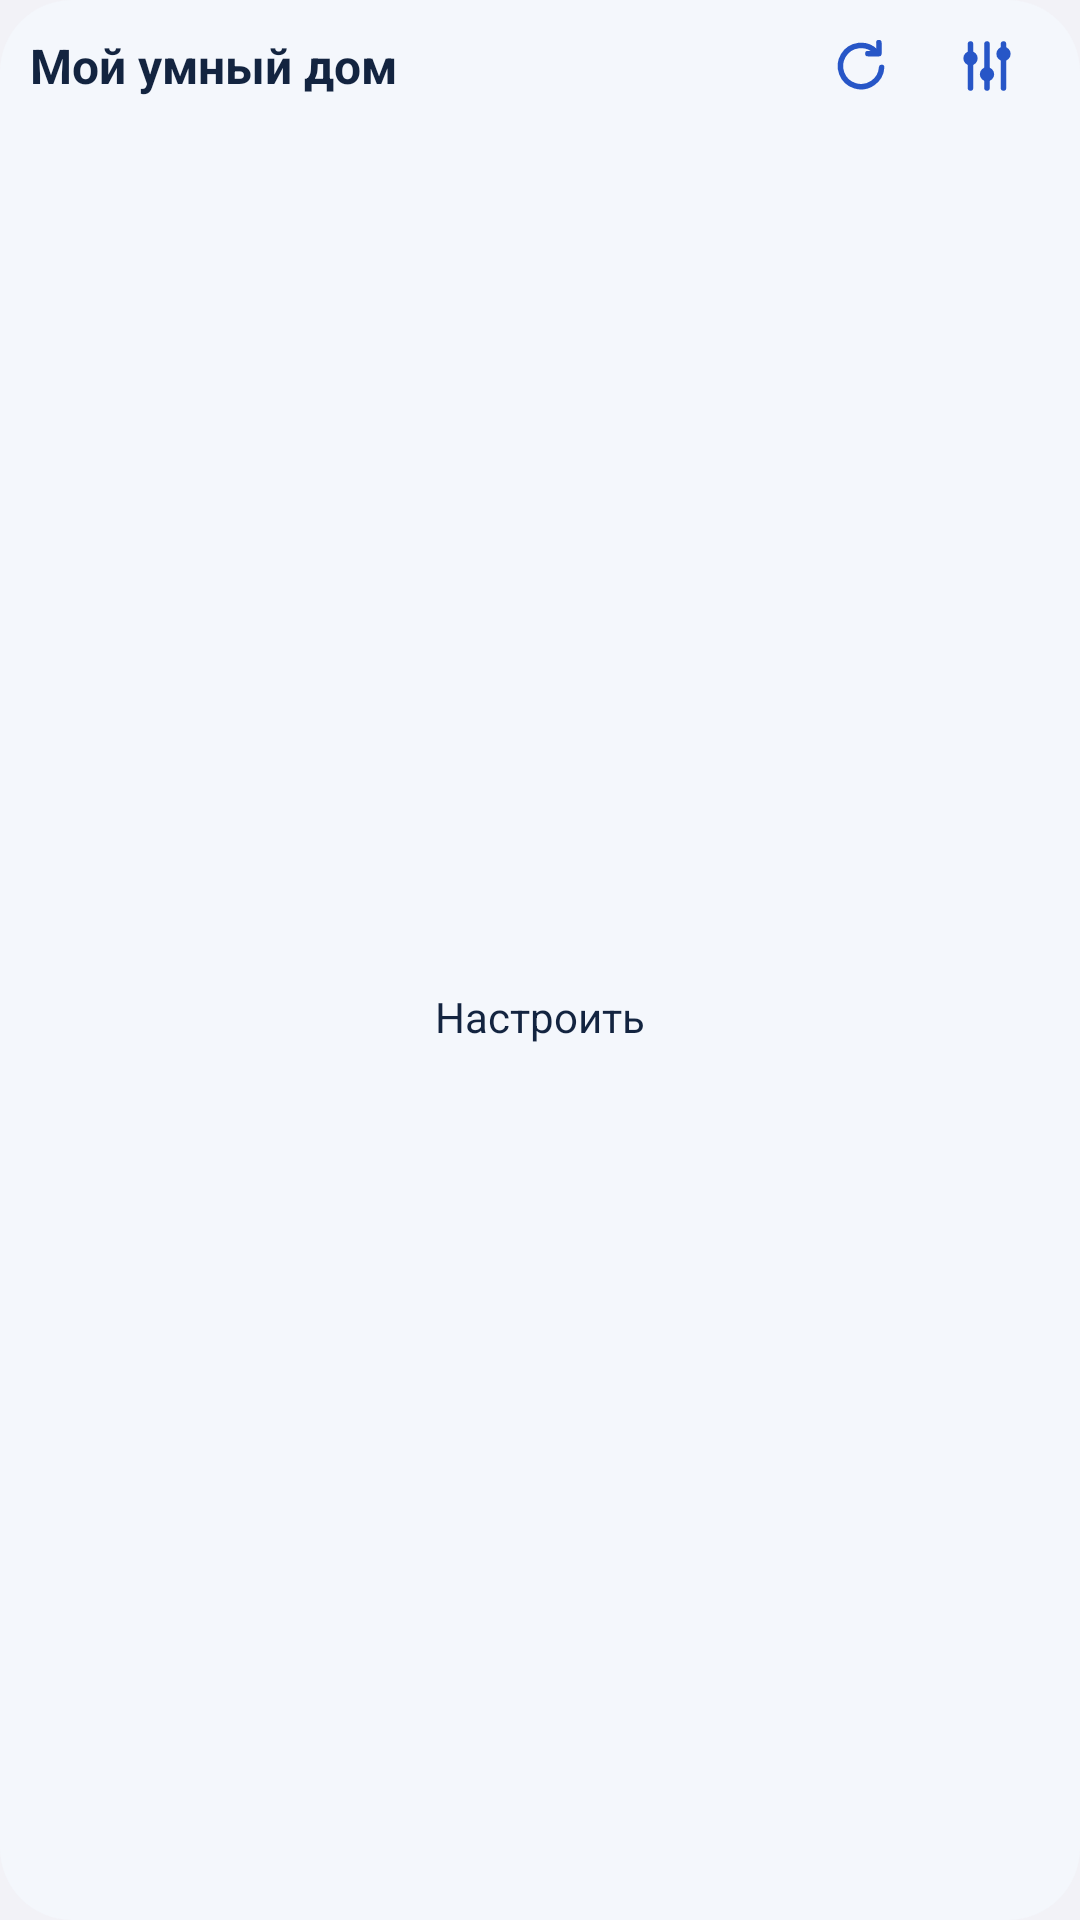

Named icons in this screenshot (1080x1920) and their centers, (x,y):
Обновить показания: (861,65)
